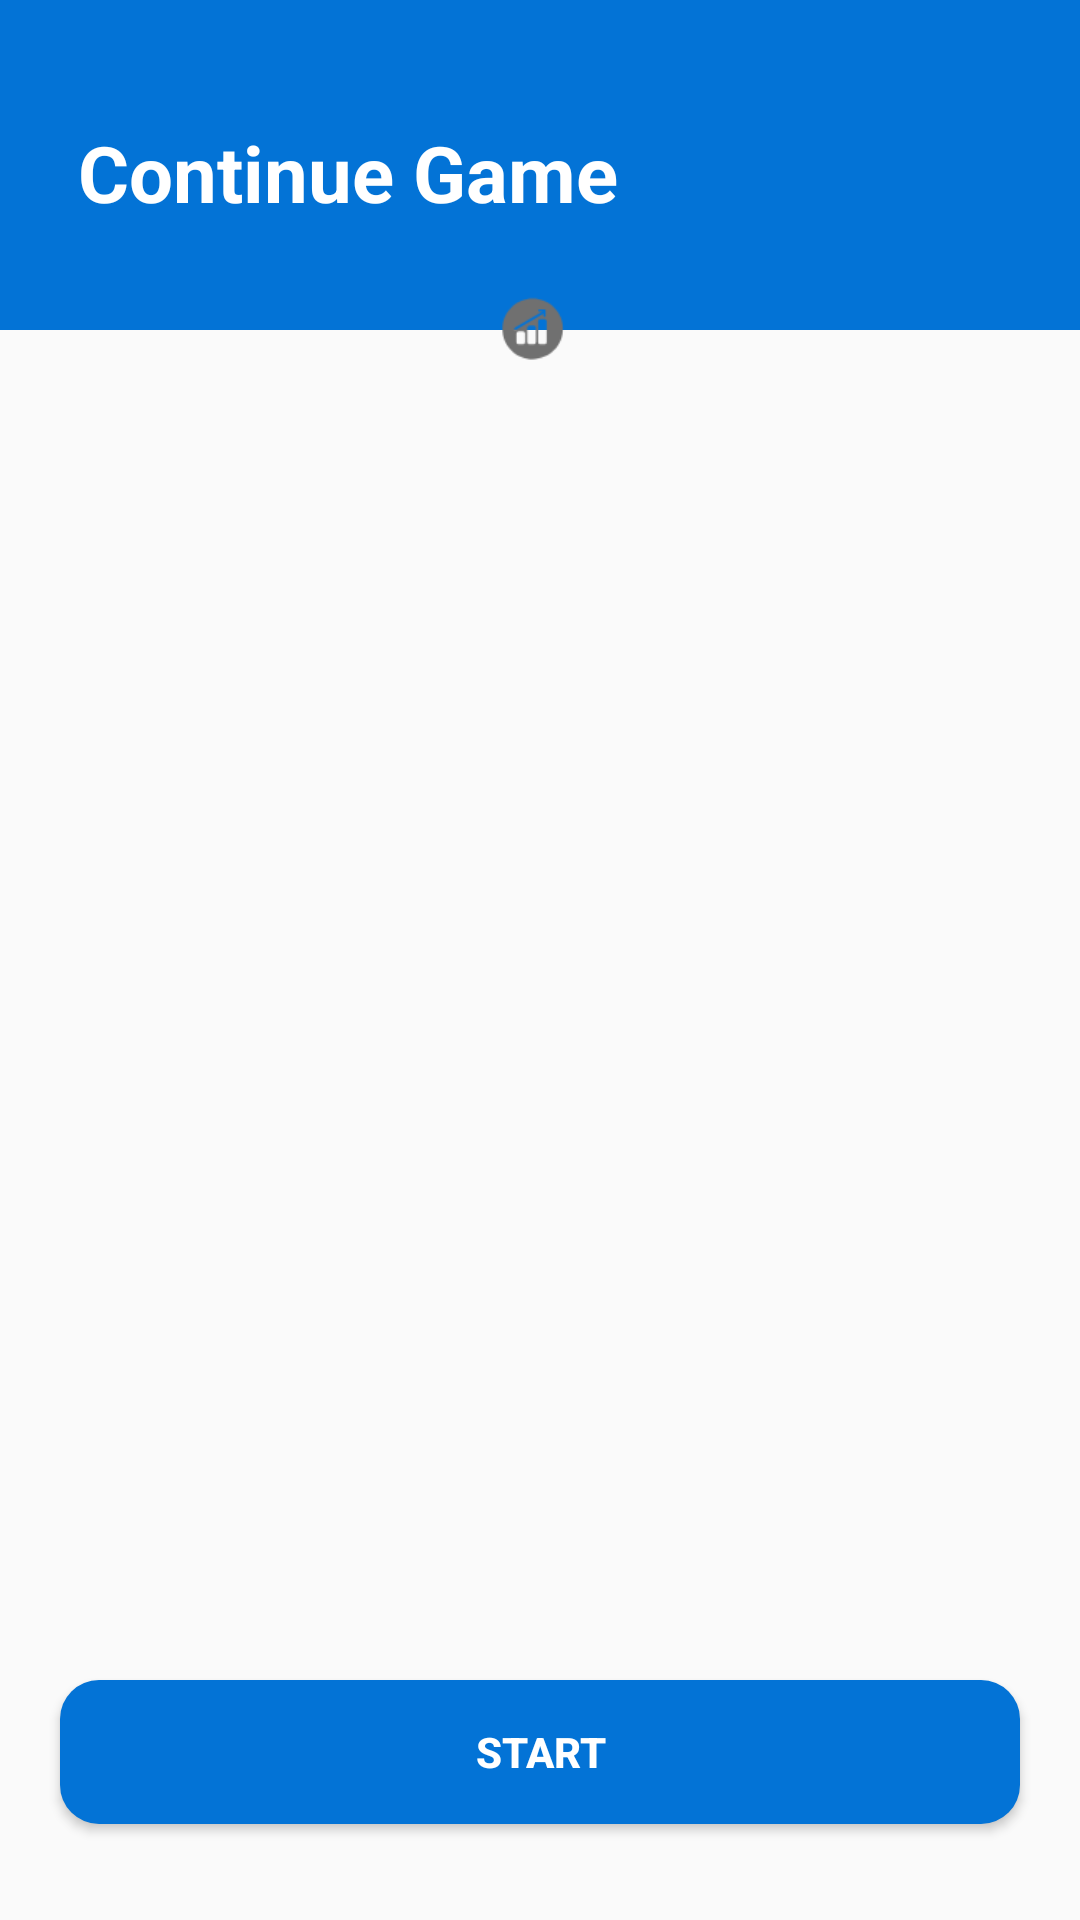

Icons on this 1080w x 1920h Android screen, each with the point to tap as (x=x, y=y):
difficulty: (x=532, y=329)
